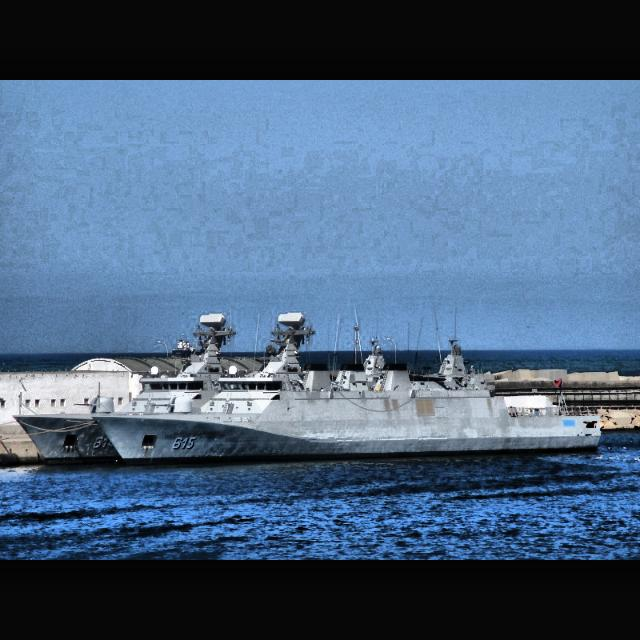combat_vessel: (11, 309, 532, 467), (88, 308, 604, 466)
